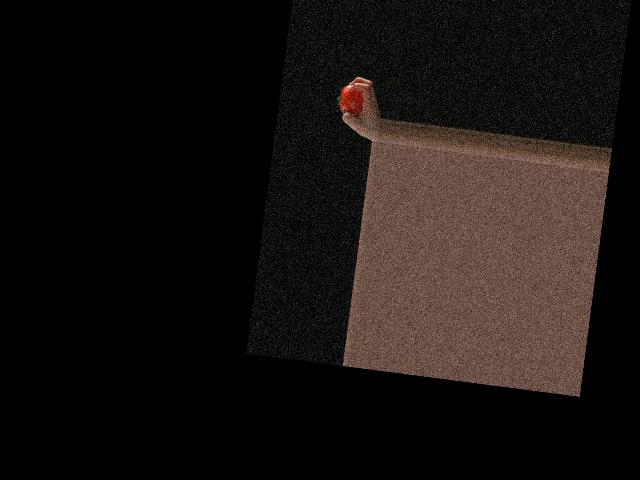tomato: (335, 84, 364, 116)
